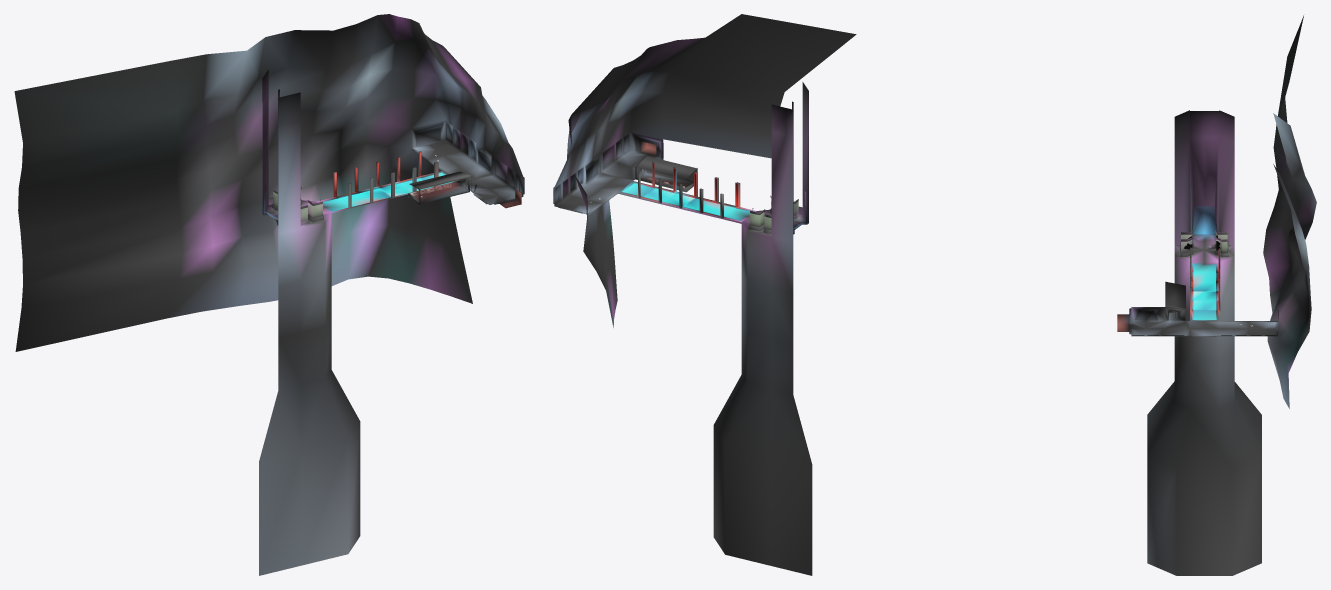
The model's file is deep.glb.
3 views of the same model, side by side, from view 1: azimuth 30°, elevation 25°; view 2: azimuth 150°, elevation 25°; view 3: azimuth 270°, elevation 25° (orthographic). The views are drawn at different scales.
Visible parts, largest first — view 1: Plane; view 2: Plane; view 3: Plane.
Boxes of the visible parts, x1=… form: Plane: x1=14, y1=14, x2=524, y2=575; Plane: x1=553, y1=14, x2=856, y2=575; Plane: x1=1117, y1=15, x2=1316, y2=575.
Size of what is drawn, in the model's own units: 144 by 152 by 105.
